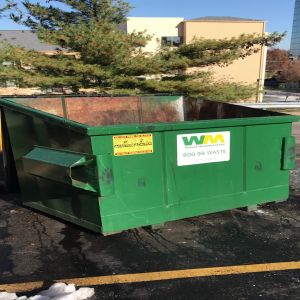Dumpster: (1, 94, 300, 239)
